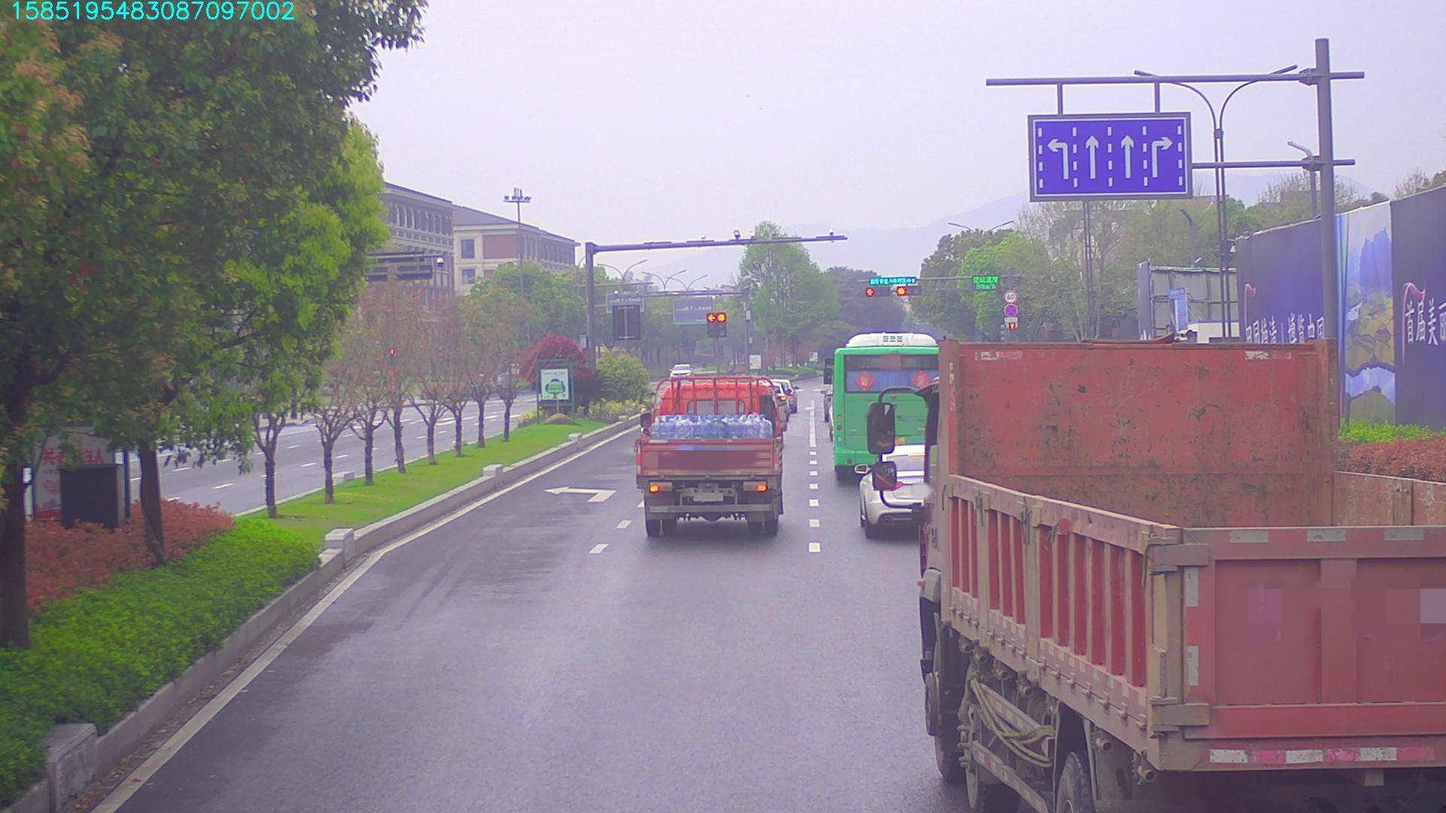red: (890, 286, 917, 299), (862, 284, 886, 297)
wait_on: (866, 273, 915, 288)
